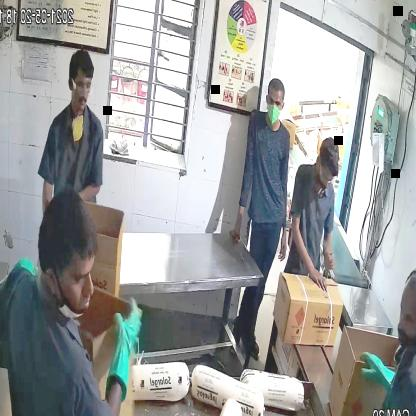goggles: (68, 77, 96, 97)
no_goggles: (266, 94, 285, 108)
